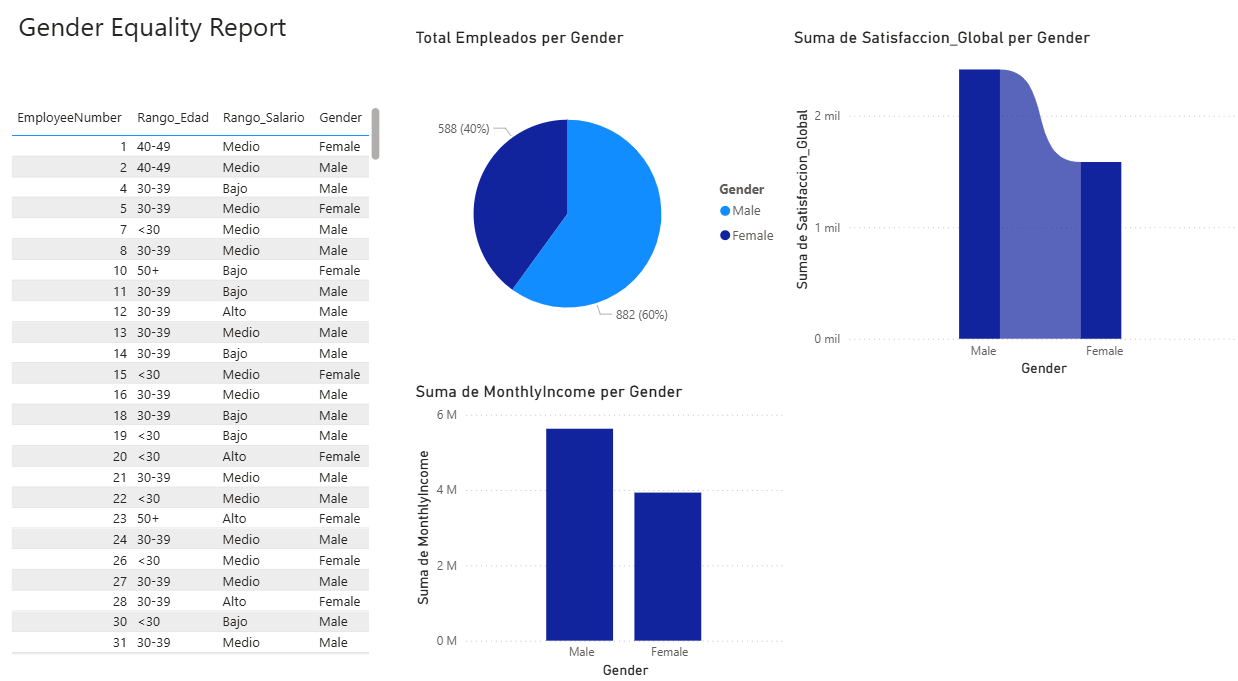

The dashboard page shown, as its layout file describes it:
{"tool":"powerbi","page":{"name":"Igualdad","canvas":[1280,720],"ordinal":1},"visuals":[{"type":"clusteredColumnChart","fields":{"Category":["DIM_Genero.Gender"],"Y":["Sum(DIM_Genero.MonthlyIncome)"]},"box":[433.8,407.7,384.5,306.2],"z":0},{"type":"pieChart","fields":{"Category":["DIM_Genero.Gender"],"Y":["DIM_Genero.Total Empleados"]},"box":[433.8,47.9,384.5,359.8],"z":1000},{"type":"ribbonChart","fields":{"Category":["DIM_Genero.Gender"],"Y":["Sum(FACT_Empleados.Satisfaccion_Global)"]},"box":[818.3,47.9,461.4,359.8],"z":2000},{"type":"textbox","box":[23.2,21.8,384.5,63.8],"z":3000},{"type":"tableEx","fields":{"Values":["DIM_Satisfaccion.EmployeeNumber","DIM_Satisfaccion.Rango_Edad","DIM_Satisfaccion.Rango_Salario","DIM_Genero.Gender"]},"box":[23.2,124.8,384.5,565.9],"z":4000}]}

Visuals, with their boxes in screenshot pixels (x1, y1, x2, y2), scaled from the page's 1280x720 canvas onto the 1238x681 screenshot:
clusteredColumnChart - DIM_Genero.Gender x Sum(DIM_Genero.MonthlyIncome): 420,386,791,675
pieChart - DIM_Genero.Gender x DIM_Genero.Total Empleados: 420,45,791,386
ribbonChart - DIM_Genero.Gender x Sum(FACT_Empleados.Satisfaccion_Global): 791,45,1237,386
textbox: 22,21,394,81
tableEx - DIM_Satisfaccion.EmployeeNumber x DIM_Satisfaccion.Rango_Edad: 22,118,394,653
